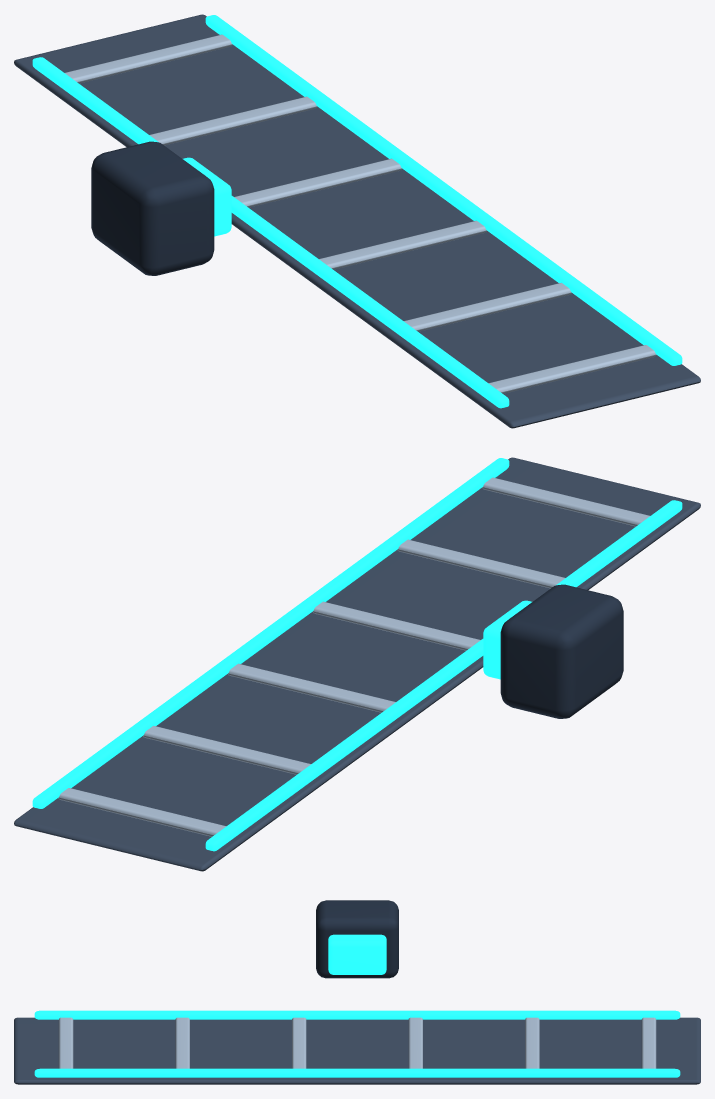
The model's file is AFJ_Rocket_Service_Ramp.fbx.
The picture shows the model from 3 angles, top to bottom: view 1: azimuth 30°, elevation 25°; view 2: azimuth 150°, elevation 25°; view 3: azimuth 270°, elevation 25°; orthographic projection. The views are drawn at different scales.
Parts seen in each view (by area): view 1: Inline_Service_Surface, Inline_Transfer_Housing, Service_Edge_Light.001, Service_Edge_Light, Service_Deck_Rib.005, Service_Deck_Rib.003, Service_Deck_Rib, Service_Deck_Rib.001, Service_Deck_Rib.002, Service_Deck_Rib.004, Transfer_Head; view 2: Inline_Service_Surface, Inline_Transfer_Housing, Service_Edge_Light.001, Service_Edge_Light, Service_Deck_Rib, Service_Deck_Rib.002, Service_Deck_Rib.005, Service_Deck_Rib.004, Service_Deck_Rib.003, Service_Deck_Rib.001, Transfer_Head; view 3: Inline_Service_Surface, Service_Edge_Light.001, Service_Edge_Light, Inline_Transfer_Housing, Transfer_Head, Service_Deck_Rib, Service_Deck_Rib.005, Service_Deck_Rib.001, Service_Deck_Rib.002, Service_Deck_Rib.003, Service_Deck_Rib.004.
Part boxes in pixels (box(x1,y1,x2,y2)): Inline_Service_Surface: box(14, 14, 700, 428); Inline_Transfer_Housing: box(91, 141, 214, 275); Service_Edge_Light.001: box(205, 15, 682, 365); Service_Edge_Light: box(32, 57, 509, 408); Service_Deck_Rib.005: box(65, 34, 232, 83); Service_Deck_Rib.003: box(234, 158, 402, 207); Service_Deck_Rib: box(488, 345, 656, 393); Service_Deck_Rib.001: box(404, 283, 571, 331); Service_Deck_Rib.002: box(319, 220, 486, 269); Service_Deck_Rib.004: box(149, 96, 317, 145); Transfer_Head: box(183, 157, 231, 236); Inline_Service_Surface: box(14, 457, 700, 871); Inline_Transfer_Housing: box(500, 584, 623, 718); Service_Edge_Light.001: box(32, 458, 509, 808); Service_Edge_Light: box(205, 500, 682, 851); Service_Deck_Rib: box(482, 477, 649, 526); Service_Deck_Rib.002: box(312, 601, 480, 650); Service_Deck_Rib.005: box(58, 788, 226, 836); Service_Deck_Rib.004: box(143, 726, 310, 774); Service_Deck_Rib.003: box(228, 663, 395, 712); Service_Deck_Rib.001: box(397, 539, 565, 588); Transfer_Head: box(483, 600, 531, 679); Inline_Service_Surface: box(14, 1017, 700, 1084); Service_Edge_Light.001: box(34, 1068, 680, 1077); Service_Edge_Light: box(34, 1010, 680, 1019); Inline_Transfer_Housing: box(316, 900, 398, 978); Transfer_Head: box(328, 934, 386, 974); Service_Deck_Rib: box(58, 1017, 73, 1068); Service_Deck_Rib.005: box(641, 1017, 656, 1068); Service_Deck_Rib.001: box(175, 1017, 189, 1068); Service_Deck_Rib.002: box(292, 1017, 306, 1068); Service_Deck_Rib.003: box(408, 1017, 422, 1068); Service_Deck_Rib.004: box(525, 1017, 539, 1068).
Size of the model in its own units: 64.25 by 20 by 165.
